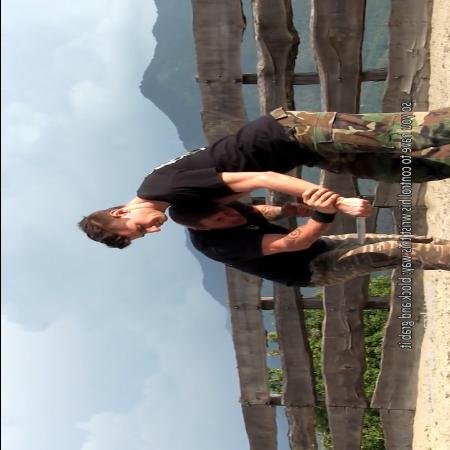long weapon: (344, 194, 374, 248)
